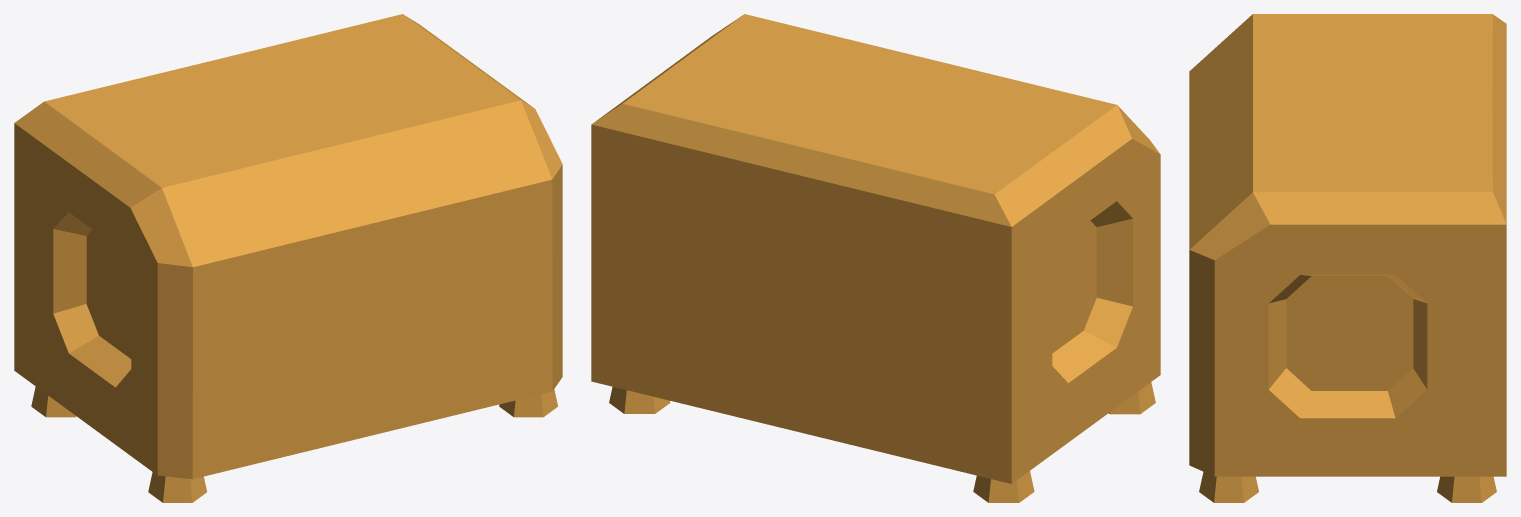
Rendered from scifi-printer-3D.fbx.
3 renders of one model, left to right at view 1: azimuth 30°, elevation 25°; view 2: azimuth 150°, elevation 25°; view 3: azimuth 270°, elevation 25°, orthographic. The views are drawn at different scales.
Parts seen in each view (by area): view 1: scifi-printer-3D; view 2: scifi-printer-3D; view 3: scifi-printer-3D.
Part boxes in pixels (left/top/right/bottom): scifi-printer-3D: left=14, top=14, right=562, bottom=502; scifi-printer-3D: left=591, top=14, right=1160, bottom=502; scifi-printer-3D: left=1189, top=14, right=1506, bottom=502.
Size of the model in its own units: 1.5 by 1.05 by 1.
